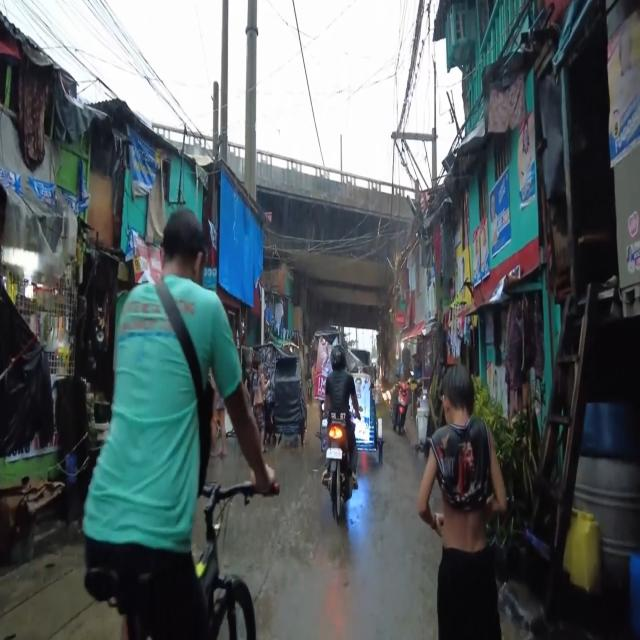full: (328, 345, 348, 372)
